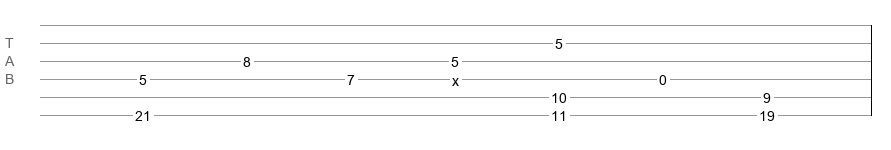0: (659, 72, 667, 82)
10: (551, 90, 567, 100)
11: (551, 108, 567, 118)
19: (759, 108, 775, 118)
21: (135, 108, 151, 118)
5: (139, 72, 147, 82), (451, 54, 459, 64), (555, 36, 563, 46)
7: (347, 72, 355, 82)
8: (243, 54, 251, 64)
9: (763, 90, 771, 100)
x: (452, 73, 459, 81)
